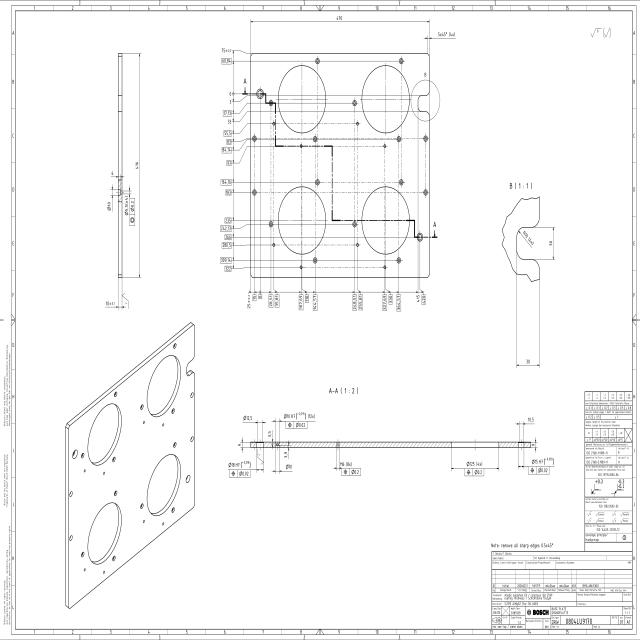dimension: (132, 51, 142, 279), (249, 14, 430, 26), (271, 410, 317, 424), (227, 459, 266, 474), (105, 288, 129, 312), (517, 456, 556, 469), (450, 460, 500, 470), (517, 228, 539, 250), (423, 29, 457, 43), (545, 225, 556, 261), (516, 356, 541, 368), (242, 414, 266, 425), (220, 46, 246, 56), (225, 137, 247, 147), (515, 416, 535, 427), (123, 186, 130, 217), (107, 182, 114, 212), (274, 464, 293, 475), (334, 461, 354, 471), (266, 419, 274, 444), (220, 146, 242, 155), (223, 129, 241, 138), (297, 289, 304, 312), (396, 290, 403, 312), (110, 170, 125, 180), (220, 255, 235, 265), (219, 224, 235, 233), (220, 241, 236, 250), (228, 90, 248, 97), (221, 177, 235, 187), (312, 289, 318, 312), (381, 289, 387, 312), (246, 288, 252, 310), (358, 289, 364, 311), (226, 159, 242, 167), (228, 99, 246, 106), (268, 288, 274, 309), (274, 288, 280, 309), (351, 290, 357, 311), (532, 436, 539, 454), (283, 444, 290, 462), (237, 436, 244, 454), (222, 108, 234, 118), (387, 289, 394, 306), (224, 215, 235, 225), (221, 58, 234, 66), (421, 288, 426, 306), (224, 188, 235, 196), (224, 265, 235, 273), (227, 119, 241, 125), (304, 291, 310, 304), (224, 234, 235, 241), (414, 291, 420, 303), (252, 292, 258, 302), (258, 290, 263, 300)
